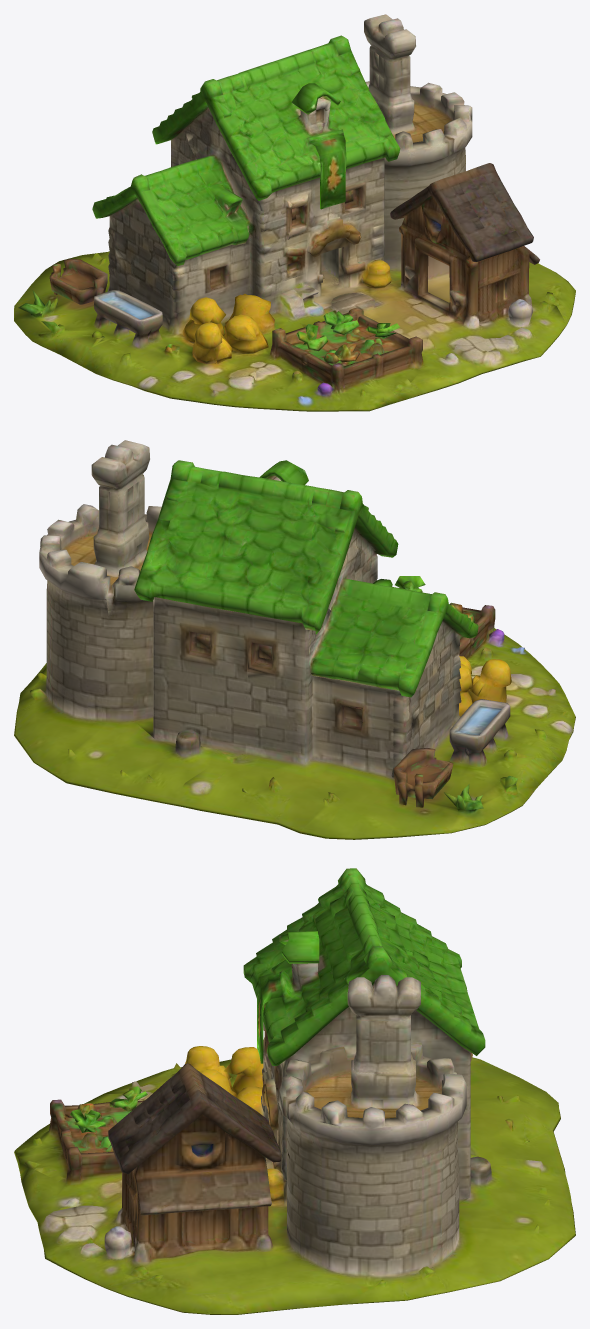
File: granja_tripo.glb
3 views of the same model, one above another, from view 1: azimuth 30°, elevation 25°; view 2: azimuth 150°, elevation 25°; view 3: azimuth 270°, elevation 25° (orthographic). The views are drawn at different scales.
Visible parts, largest first — view 1: tripo_node_9b7acbd3-0342-4fad-baf9-eebded344469; view 2: tripo_node_9b7acbd3-0342-4fad-baf9-eebded344469; view 3: tripo_node_9b7acbd3-0342-4fad-baf9-eebded344469.
Boxes of the visible parts, bbox=[...] form: tripo_node_9b7acbd3-0342-4fad-baf9-eebded344469: bbox=[14, 14, 575, 411]; tripo_node_9b7acbd3-0342-4fad-baf9-eebded344469: bbox=[14, 440, 575, 839]; tripo_node_9b7acbd3-0342-4fad-baf9-eebded344469: bbox=[14, 868, 575, 1314].
Size of the model in its own units: 0.9782 by 0.469 by 0.8671.
Materials: 1 (1 with a texture image).
